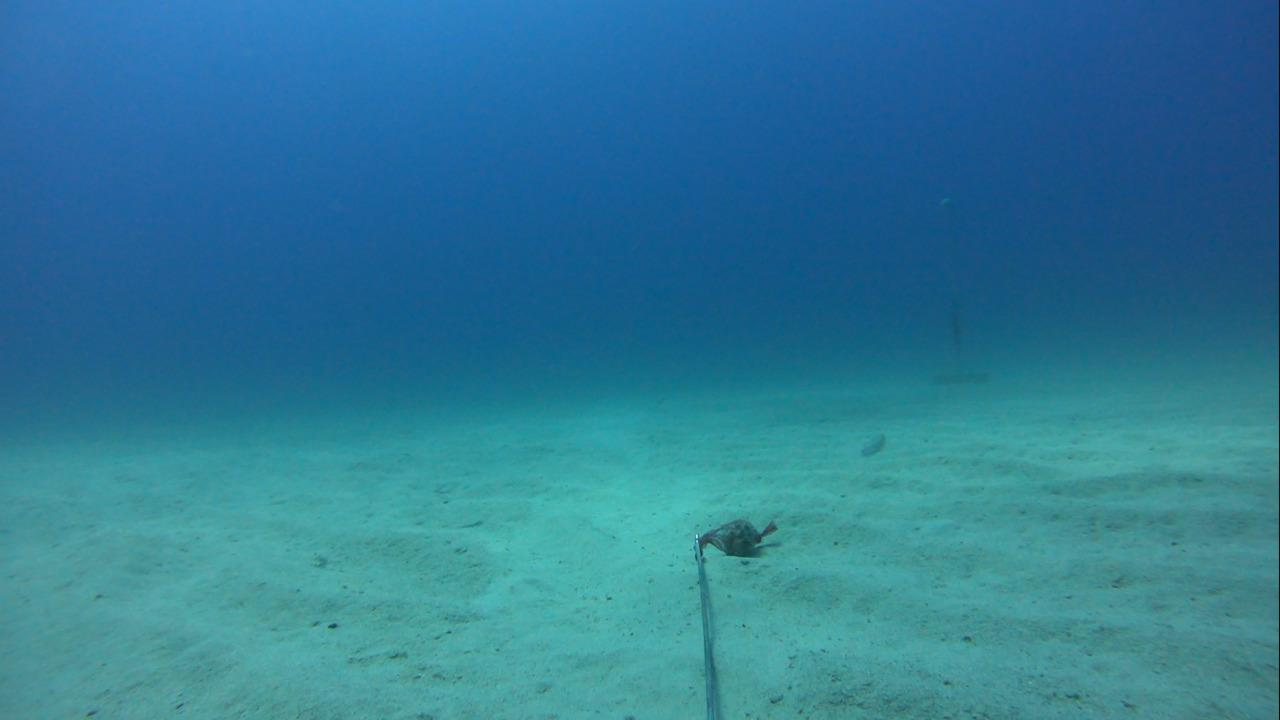raor: (847, 424, 891, 456)
